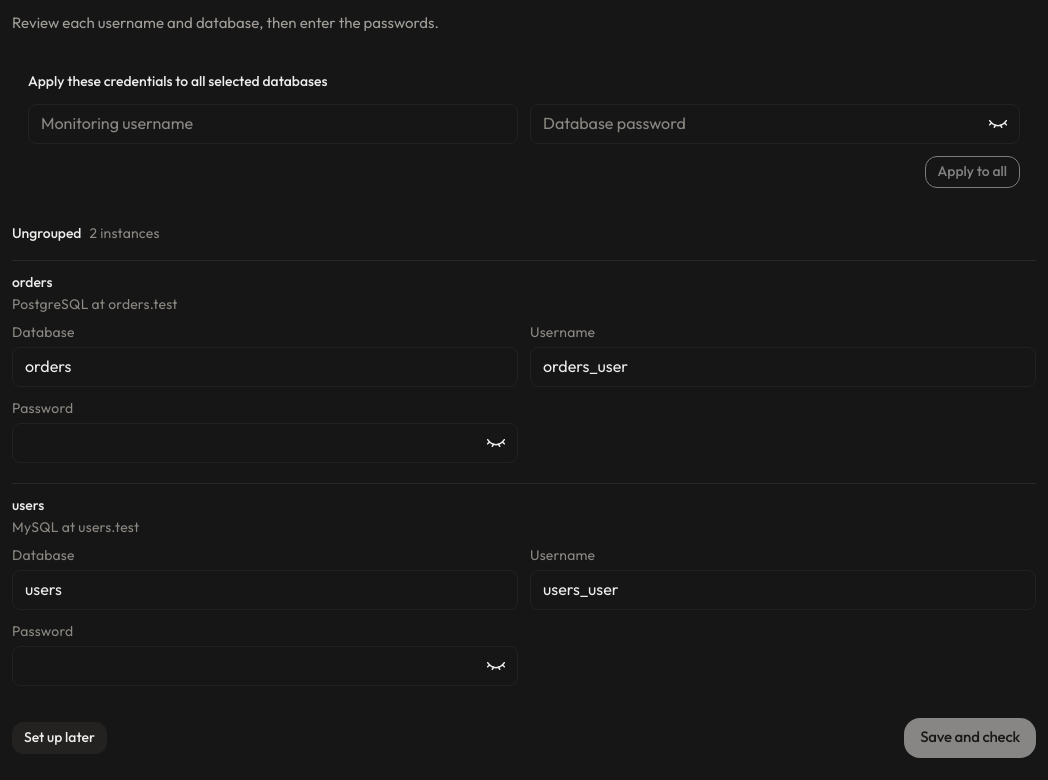
it: CredentialsStep › applies shared monitoring credentials to the whole batch
The image size is (1048, 780).
Type "monitoring" into the field named "batch-credentials-user" at (273, 124), box [28,104,518,144]
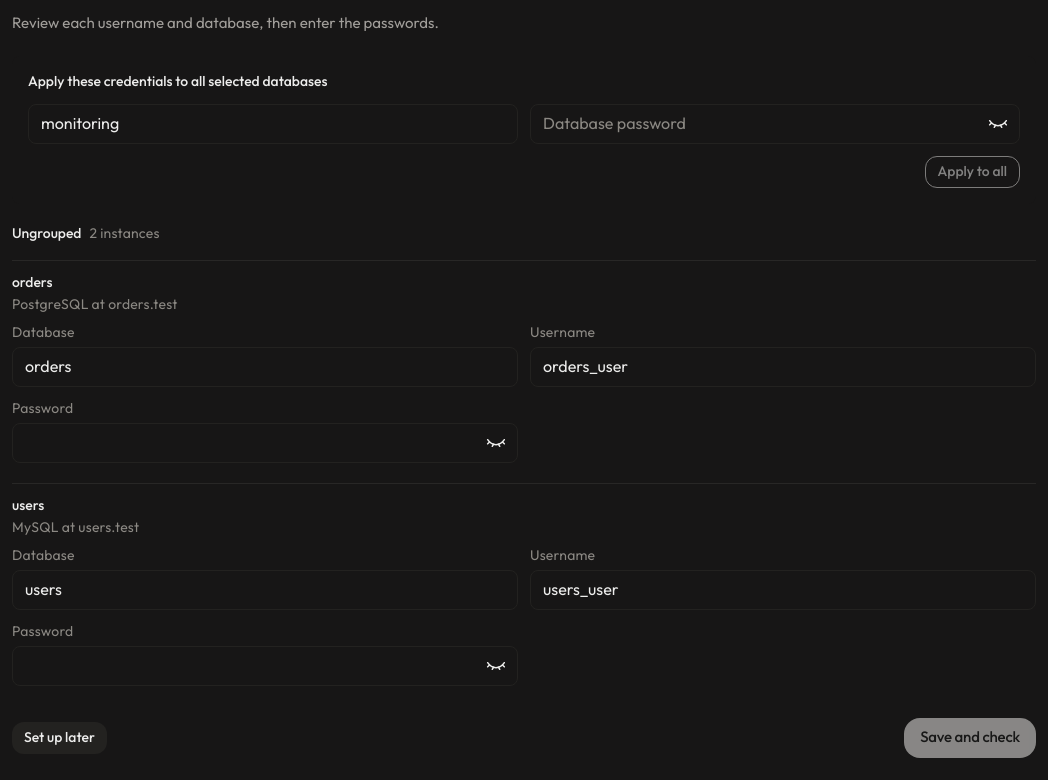
Type "shared-secret" into the password field named "batch-credentials-password" at (775, 124), box [530,104,1020,144]
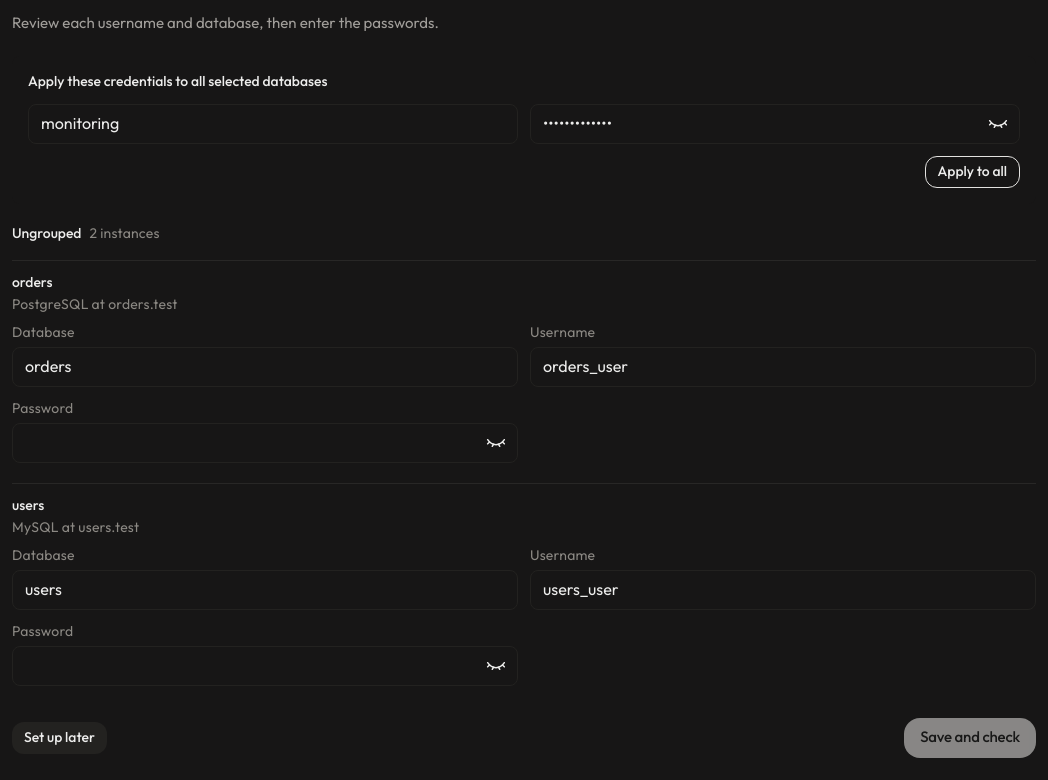
Click the button "Apply to all" at (972, 172), box [924,156,1020,188]
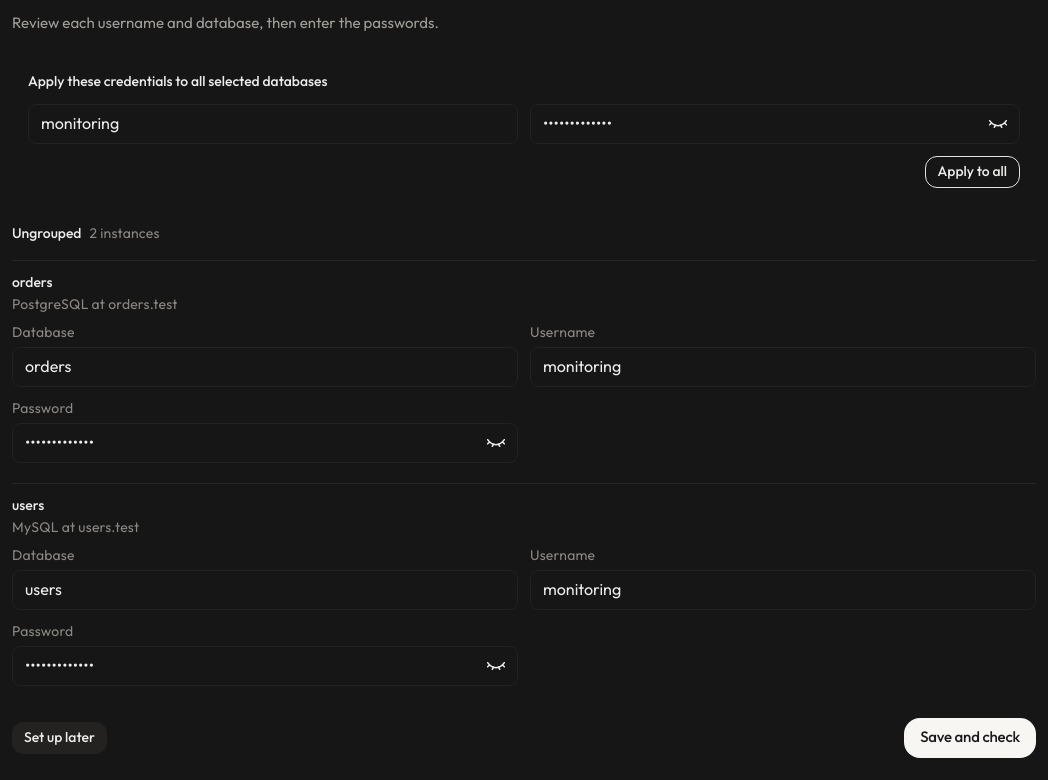
Now the 3rd field named "credentials-user-orders" holds "monitoring", box [530,347,1036,387]
Now the password field named "credentials-password-orders" below "PostgreSQL at orders.test" holds "shared-secret", box [12,423,518,463]
Now the password field named "credentials-password-users" below "MySQL at users.test" holds "shared-secret", box [12,646,518,686]
